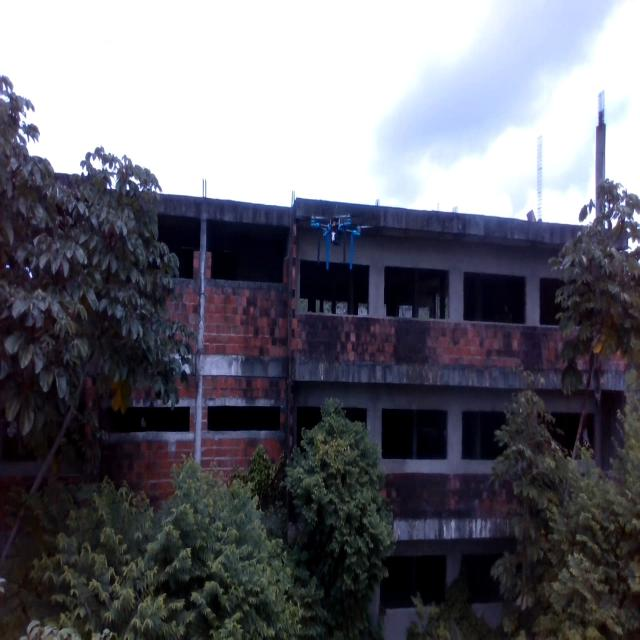-uav-: (308, 197, 368, 273)
